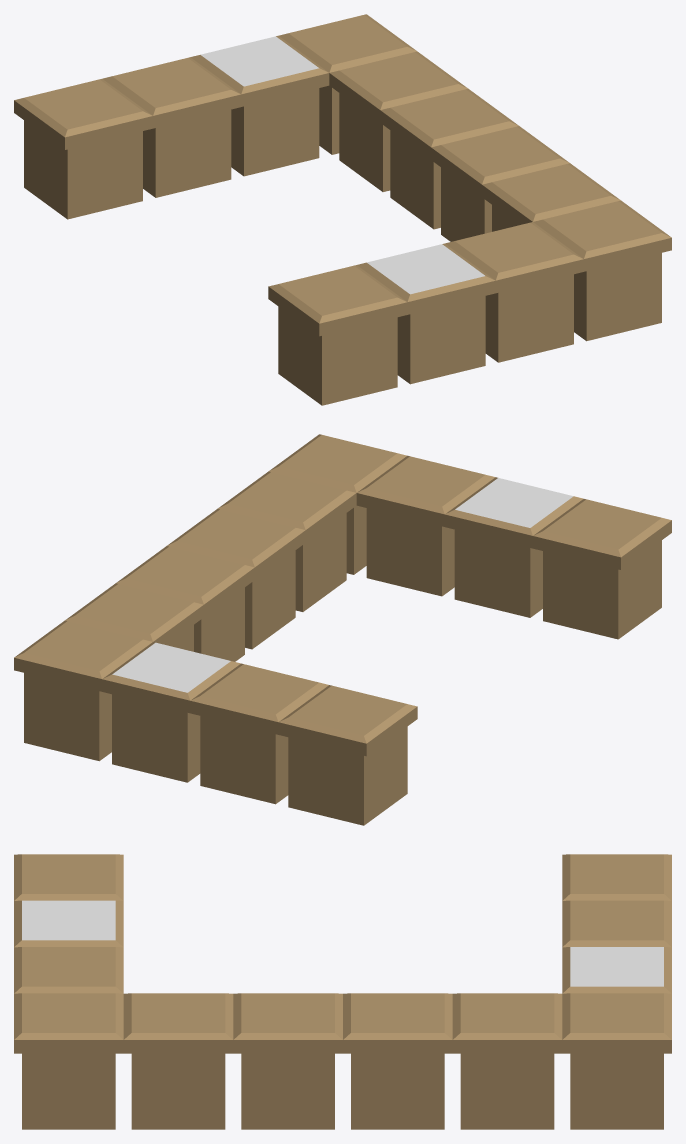
File: Counter2.fbx
3 renders of one model, top to bottom at view 1: azimuth 30°, elevation 25°; view 2: azimuth 150°, elevation 25°; view 3: azimuth 270°, elevation 25°, orthographic. The views are drawn at different scales.
Visible parts, largest first — view 1: Cube.007; view 2: Cube.007; view 3: Cube.007.
Part boxes in pixels (x1,y1,x2,y2): Cube.007: (14,14,671,405); Cube.007: (14,434,671,825); Cube.007: (14,854,671,1129).
Bounding box in the file's own units: 934 × 228 × 1401.
